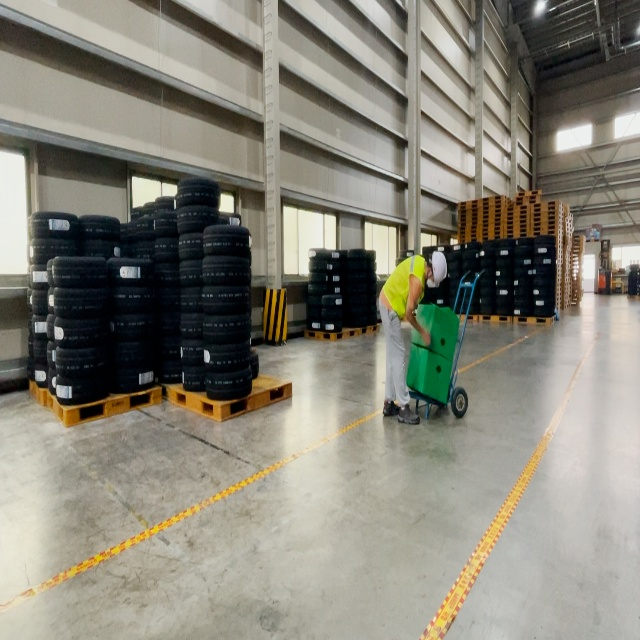Box: (411, 303, 461, 362), (407, 342, 453, 406)
Worker: (378, 250, 447, 426)
